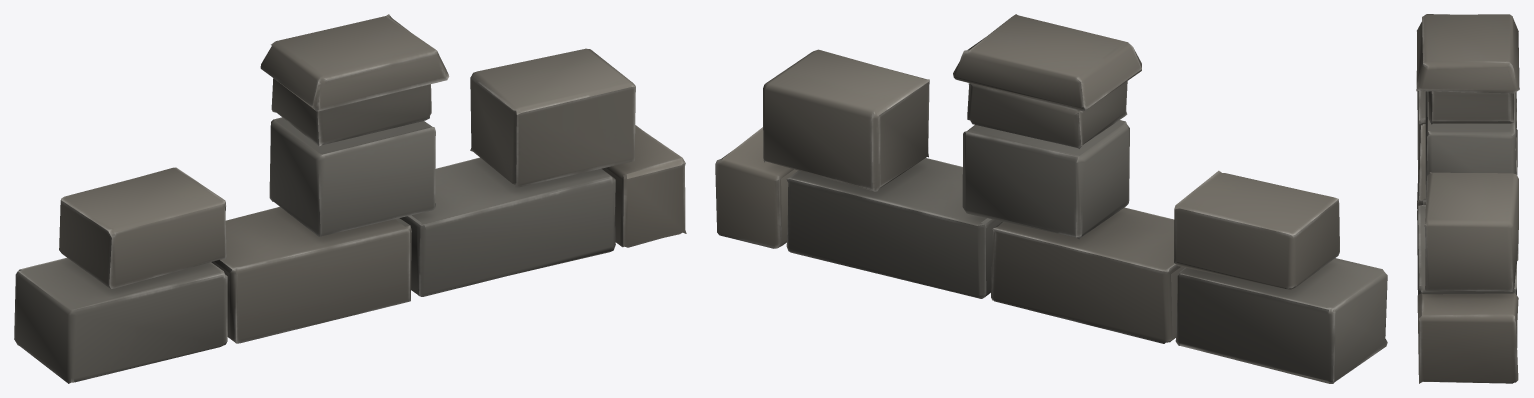
Rendered from gallows_rampart_worn.glb.
The picture shows the model from 3 angles, left to right: view 1: azimuth 30°, elevation 25°; view 2: azimuth 150°, elevation 25°; view 3: azimuth 270°, elevation 25°; orthographic projection. The views are drawn at different scales.
Parts seen in each view (by area): view 1: gallows_rampart_worn; view 2: gallows_rampart_worn; view 3: gallows_rampart_worn.
Part boxes in pixels (<box>): gallows_rampart_worn: <box>14,14,686,383</box>; gallows_rampart_worn: <box>715,14,1387,383</box>; gallows_rampart_worn: <box>1416,14,1519,383</box>.
Size of the model in its own units: 3.97 by 1.51 by 0.6479.
1 material, 1 textured.
